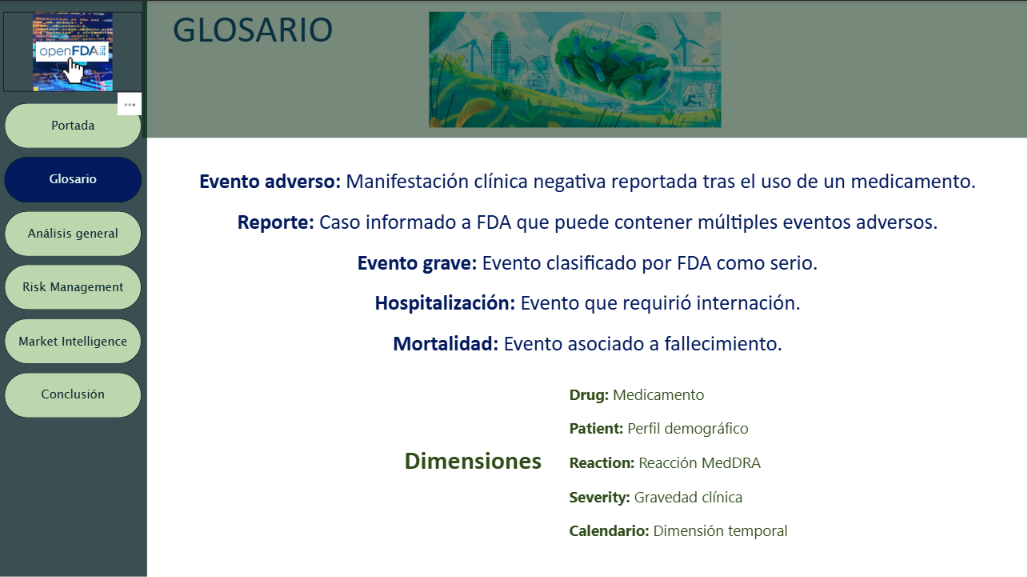

The page's visual inventory and layout, read from the dashboard file:
{"tool":"powerbi","page":{"name":"Glosario","canvas":[1280,720],"ordinal":1},"visuals":[{"type":"image","box":[498.8,13.7,435.4,144.3],"z":0},{"type":"textbox","box":[704.1,454,303.5,240.1],"z":1000},{"type":"shape","box":[0,0,184.1,719],"z":2000},{"type":"pageNavigator","box":[6.2,126.9,171.7,396.8],"z":3000},{"type":"image","box":[5,13.7,172.9,99.5],"z":4000},{"type":"textbox","box":[184.1,202.8,1095.9,279.9],"z":5000},{"type":"textbox","box":[177.9,0,1102.1,170.4],"z":6000},{"type":"textbox","box":[498.8,547.3,205.3,53.5],"z":7000}]}

Visuals, with their boxes on the page's 1280x720 design canvas (x1, y1, x2, y2). These are canvas units, not pixel positions in the 1027x577 screenshot, which may show the page scaled, cropped or inside an application window:
image: bbox=[499, 14, 934, 158]
textbox: bbox=[704, 454, 1008, 694]
shape: bbox=[0, 0, 184, 719]
pageNavigator: bbox=[6, 127, 178, 524]
image: bbox=[5, 14, 178, 113]
textbox: bbox=[184, 203, 1280, 483]
textbox: bbox=[178, 0, 1280, 170]
textbox: bbox=[499, 547, 704, 601]
